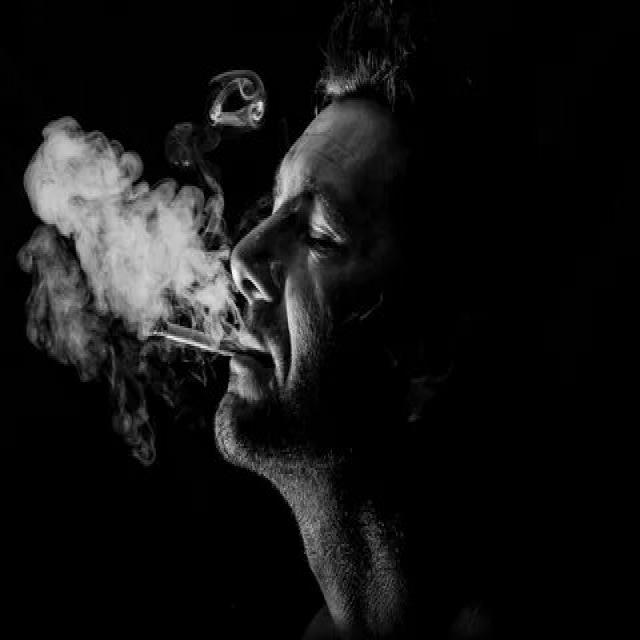smoke: (134, 310, 262, 366)
